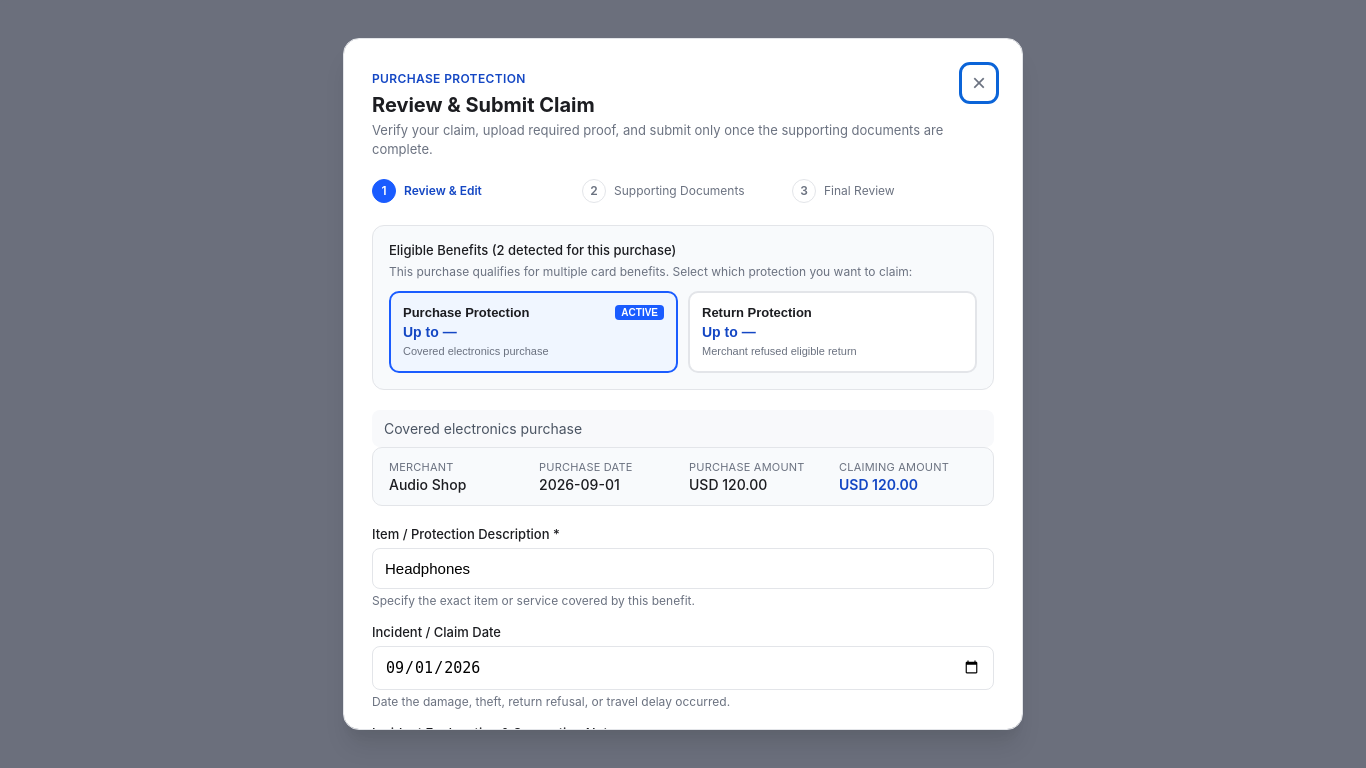
it: critical member flows › switches eligible benefits and displays selected benefit explanation
This screenshot has width=1366, height=768.
Click the button "Return Protection Up to — Merchant refused eligible return".
click(757, 313)  # box [688,291,977,373]
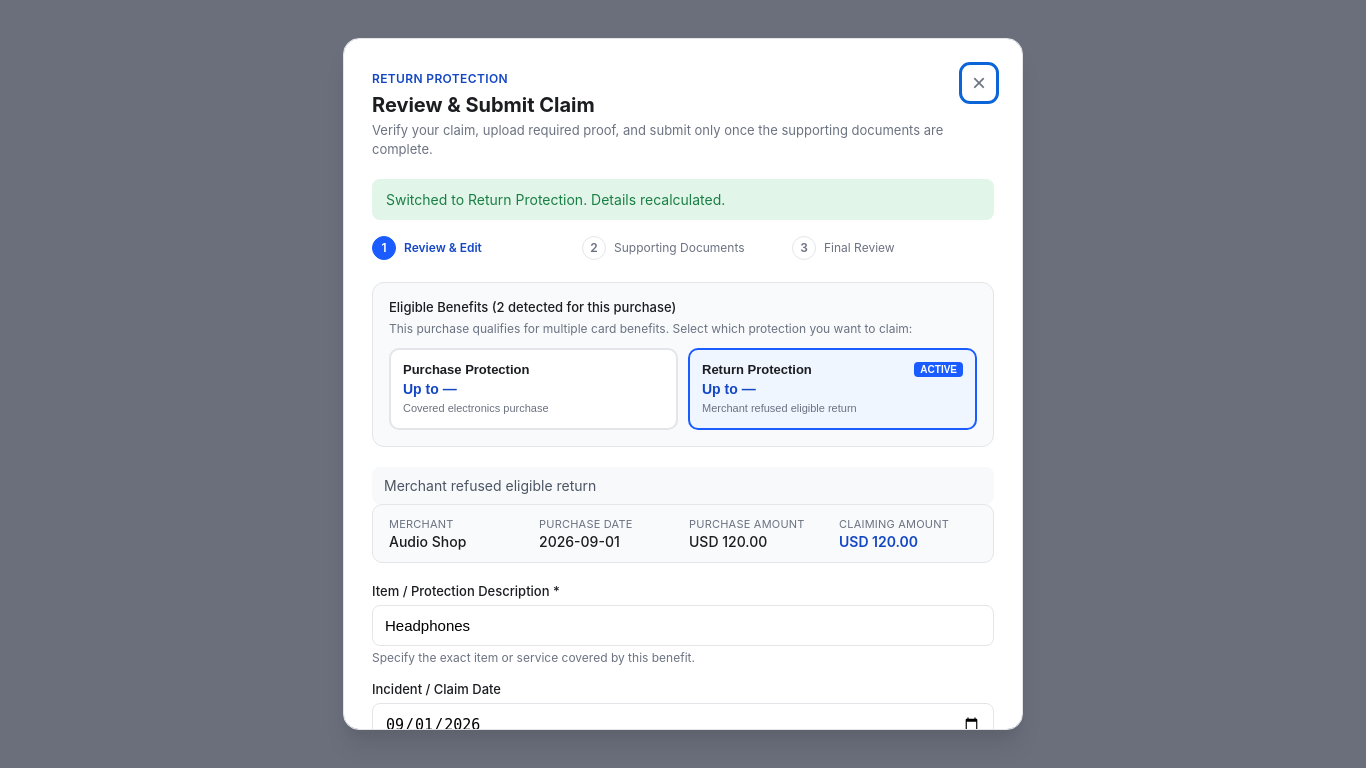
Result: the text "Switched to Return Protection. Details recalculated." is shown at [372,179,994,220]
Result: the 2nd text "Merchant refused eligible return" is shown at [372,467,994,504]
